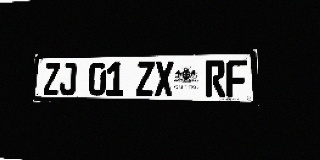0: (88, 62, 106, 96)
1: (106, 62, 124, 96)
F: (226, 60, 247, 97)
J: (59, 63, 76, 95)
R: (205, 60, 226, 97)
X: (155, 61, 173, 96)
Z: (136, 61, 154, 96), (43, 63, 60, 95)
